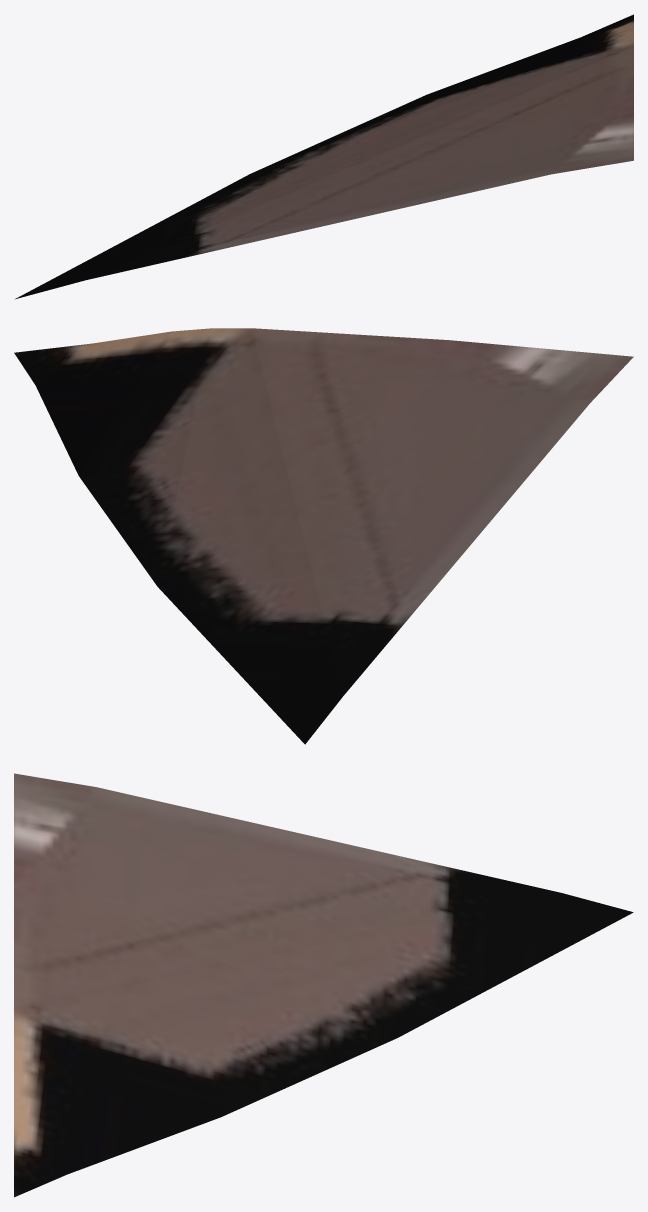
3 views of the same model, one above another, from view 1: azimuth 90°, elevation 25°; view 2: azimuth 150°, elevation 25°; view 3: azimuth 270°, elevation 25° (orthographic). The views are drawn at different scales.
Bounding box in the file's own units: 1.35 × 0.3058 × 1.24.
1 material, 1 textured.
